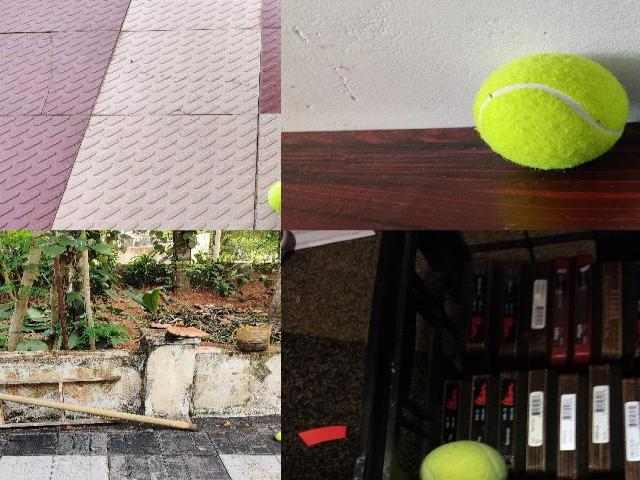tennis-ball: (472, 53, 630, 170), (417, 439, 509, 479), (267, 178, 280, 216), (274, 431, 280, 442)
